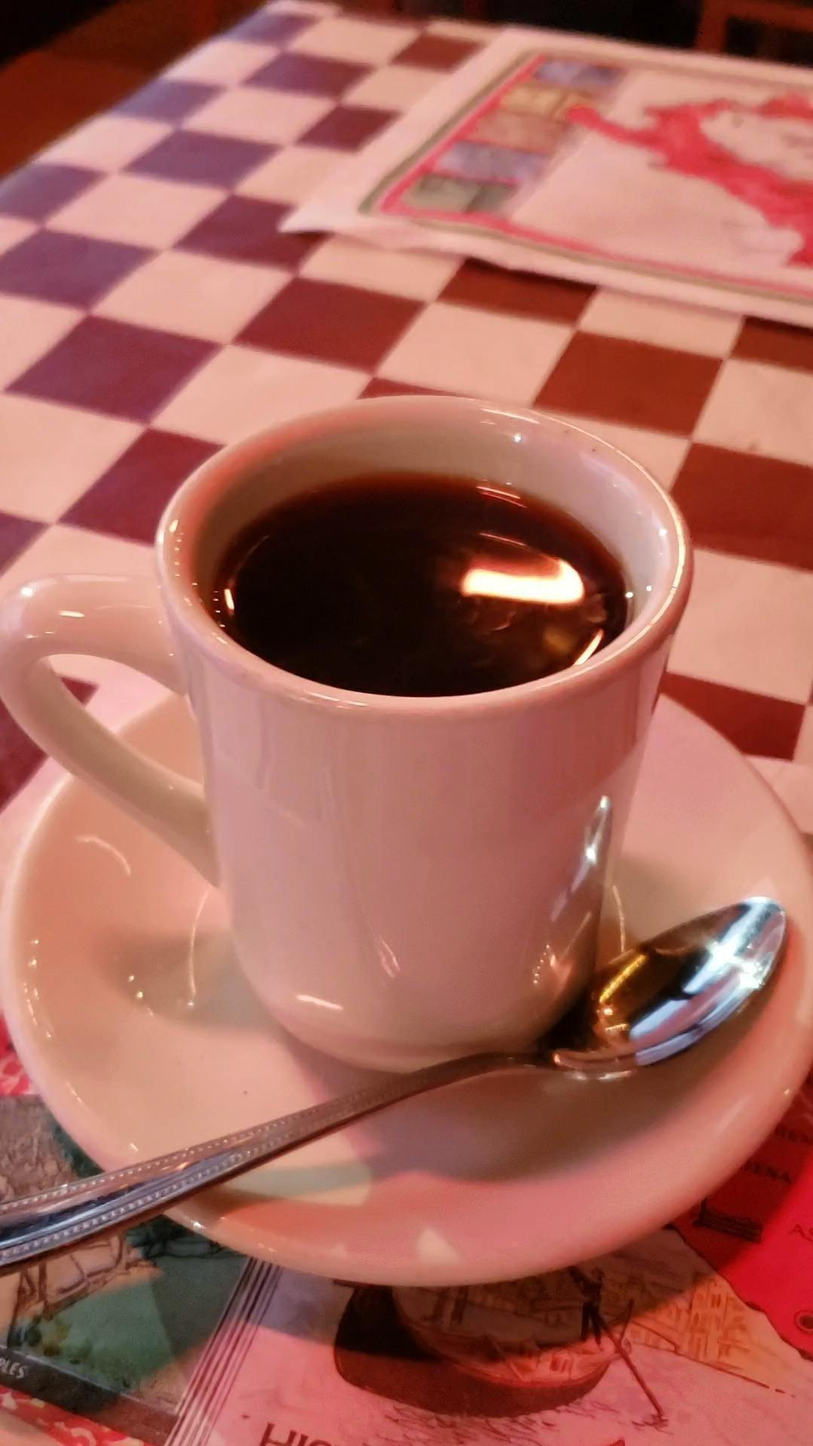cup-handle: (6, 389, 695, 1076)
